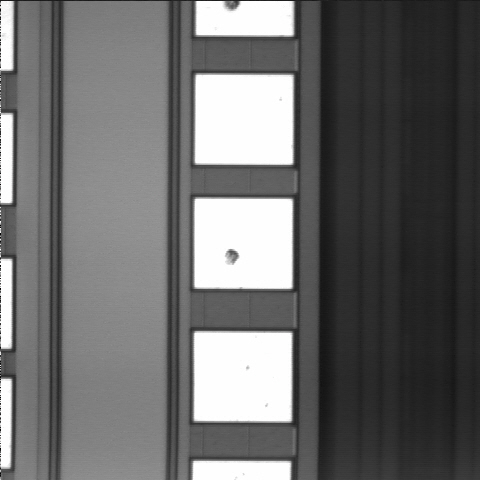pad: (194, 199, 293, 289), (195, 75, 293, 165), (194, 332, 292, 421)
